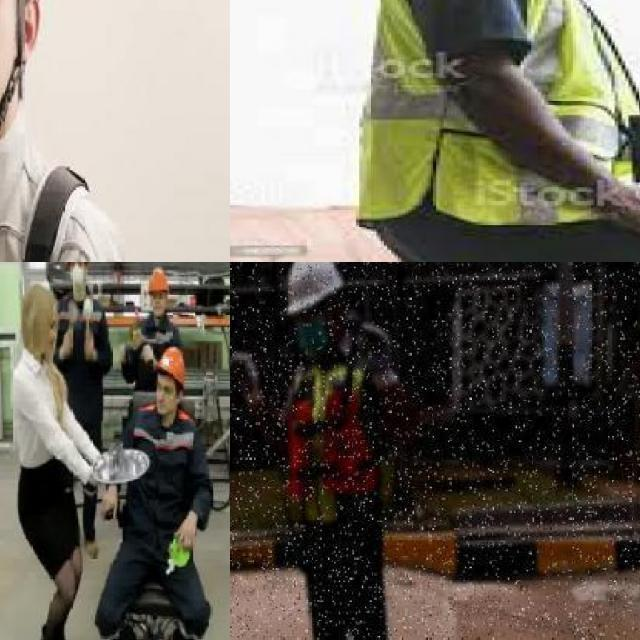apron: (356, 320, 398, 394), (230, 351, 266, 411)
